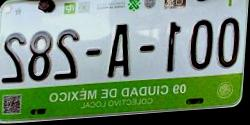License_Plate: (0, 0, 246, 120)
